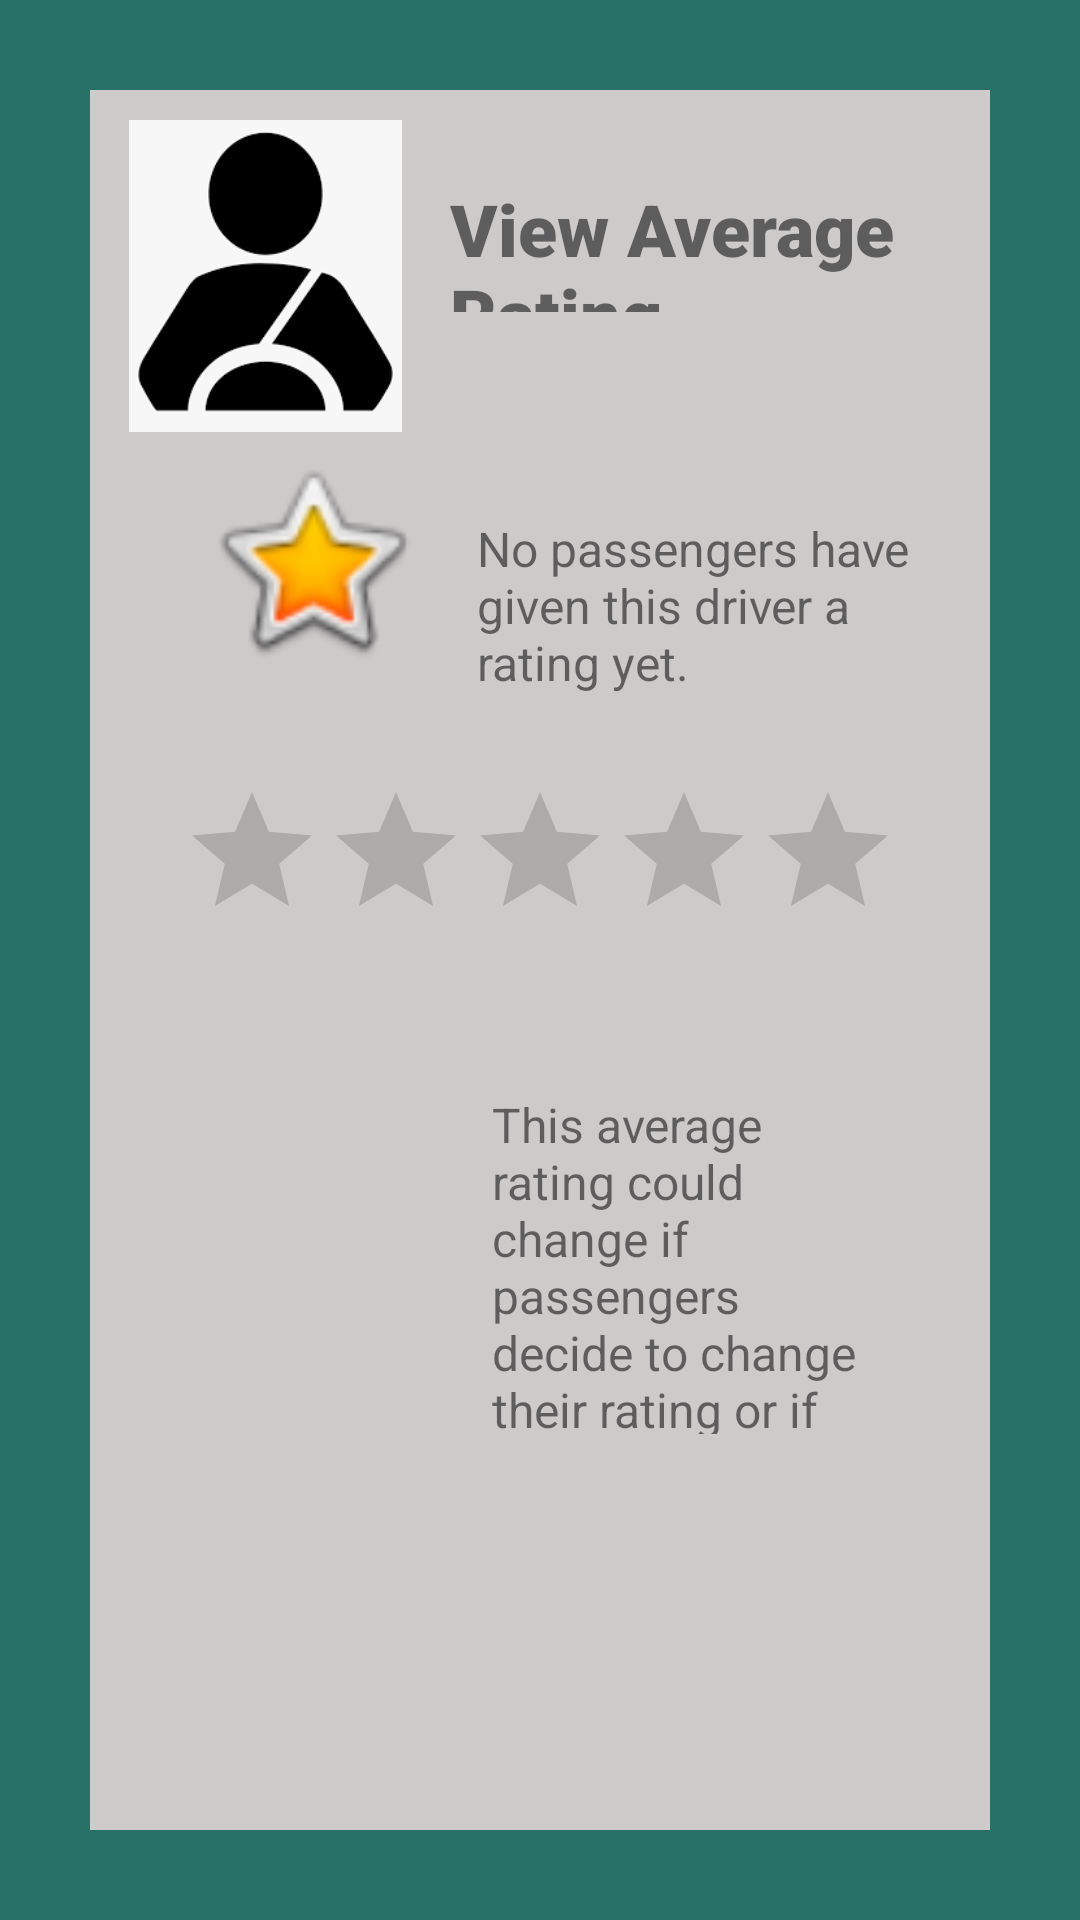

Where icons sit on this 1080×1920 app screen, as (x1, y1, x2, y2):
star on: (222, 473, 406, 653)
